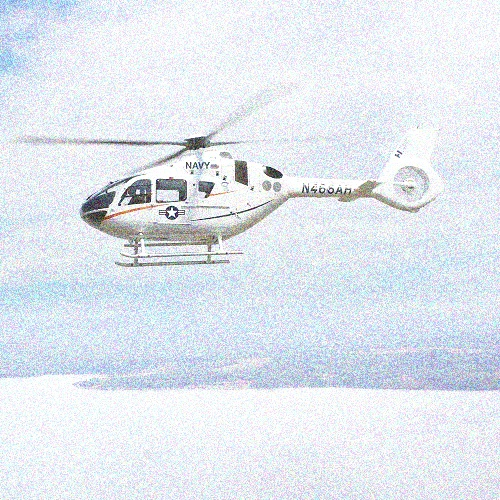Helicopter: (5, 78, 449, 271)
